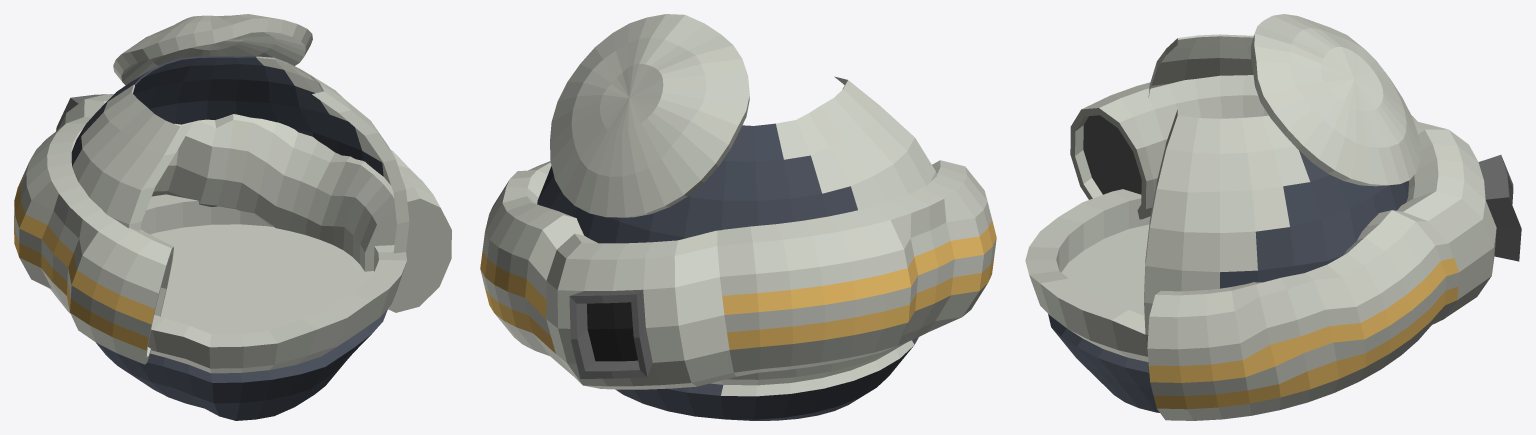
File: CrashedSubmarine.fbx
The picture shows the model from 3 angles, left to right: view 1: azimuth 30°, elevation 25°; view 2: azimuth 150°, elevation 25°; view 3: azimuth 270°, elevation 25°; orthographic projection. The views are drawn at different scales.
Visible parts, largest first — view 1: Sphere, Torus; view 2: Torus, Sphere; view 3: Sphere, Torus.
Part boxes in pixels (x1,y1,x2,y2): Sphere: [71, 14, 409, 420]; Torus: [14, 93, 451, 364]; Torus: [480, 160, 996, 389]; Sphere: [537, 14, 937, 420]; Sphere: [1025, 14, 1420, 412]; Torus: [1070, 75, 1521, 420].
Bounding box in the file's own units: 244 × 206 × 250.
